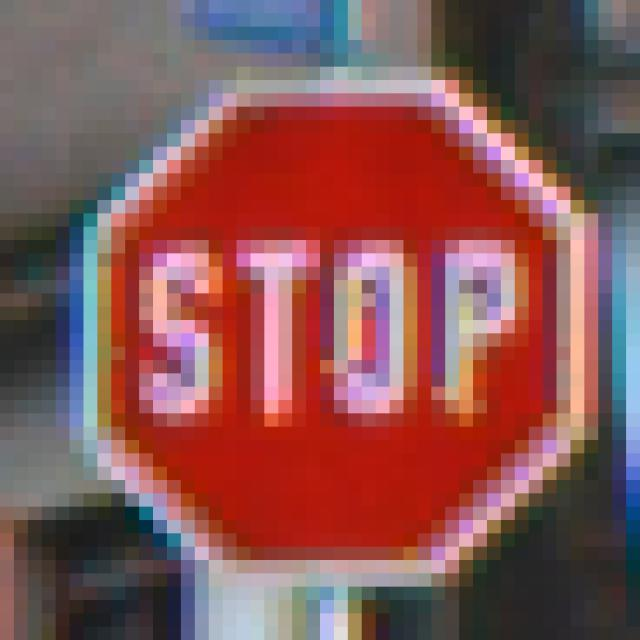STOP: (85, 68, 572, 574)
